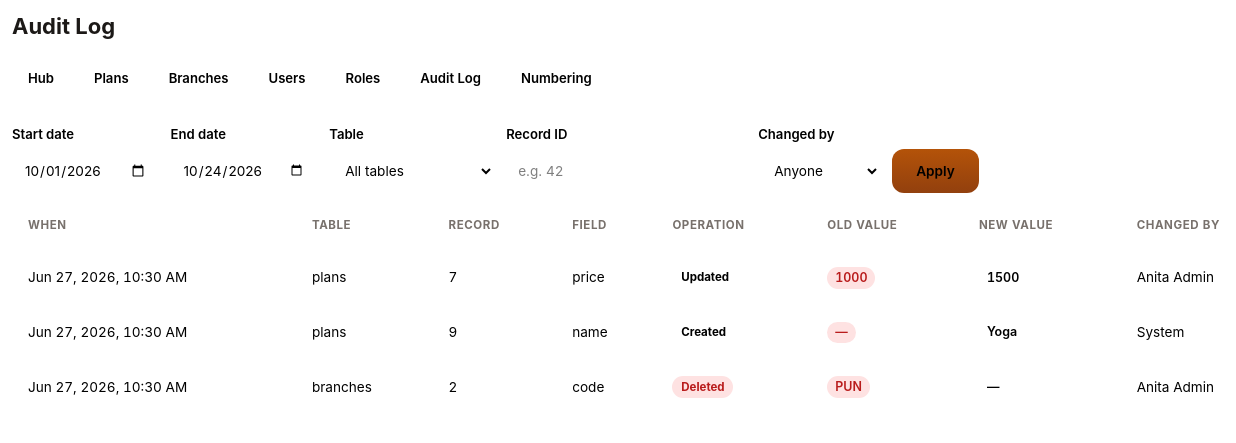
AuditLogPage — filters and loading › refuses an end date before the start date, without refetching
In the date field labelled "Start date": (85,171) [12,149,159,193], type "2026-06-20"
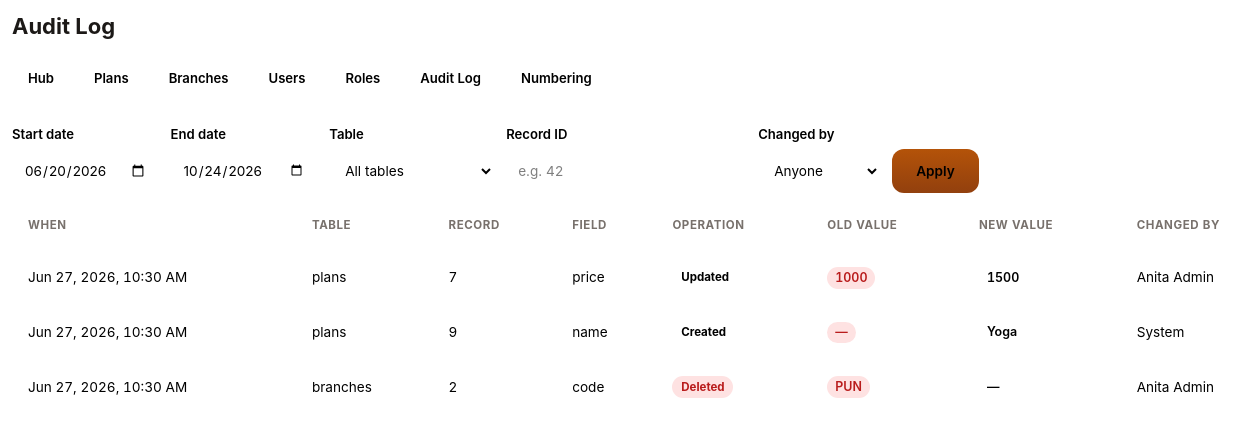
In the date field labelled "End date": (244,171) [171,149,317,193], type "2026-06-10"
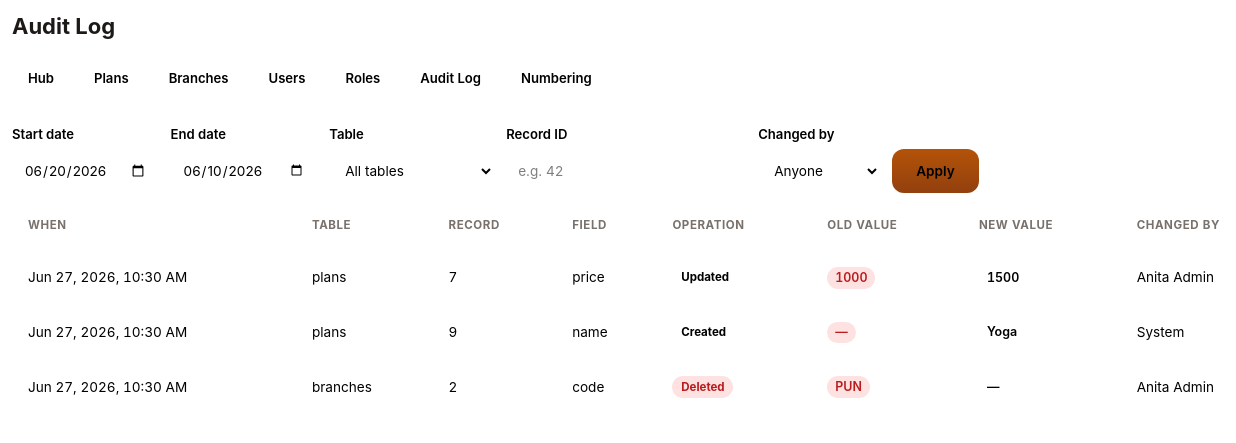
Click the button "Apply": (935,171) [892,149,979,193]
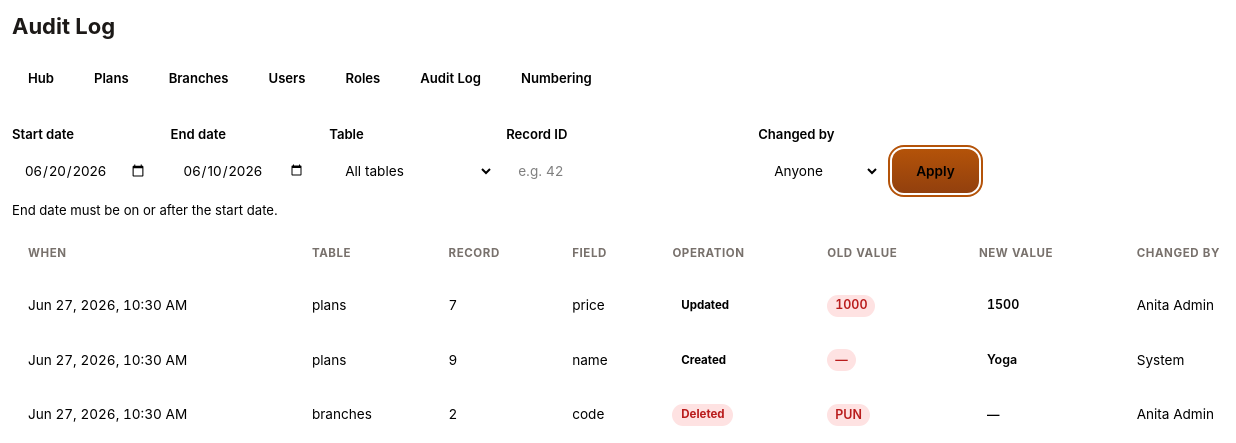
Expected: the text "End date must be on or after the start date." is shown, [12,202,278,218]
